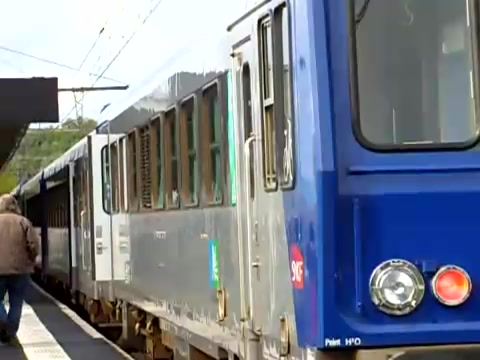train: (9, 1, 480, 360)
